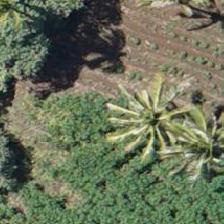coconut_tree: (93, 82, 183, 172), (162, 101, 223, 191)
